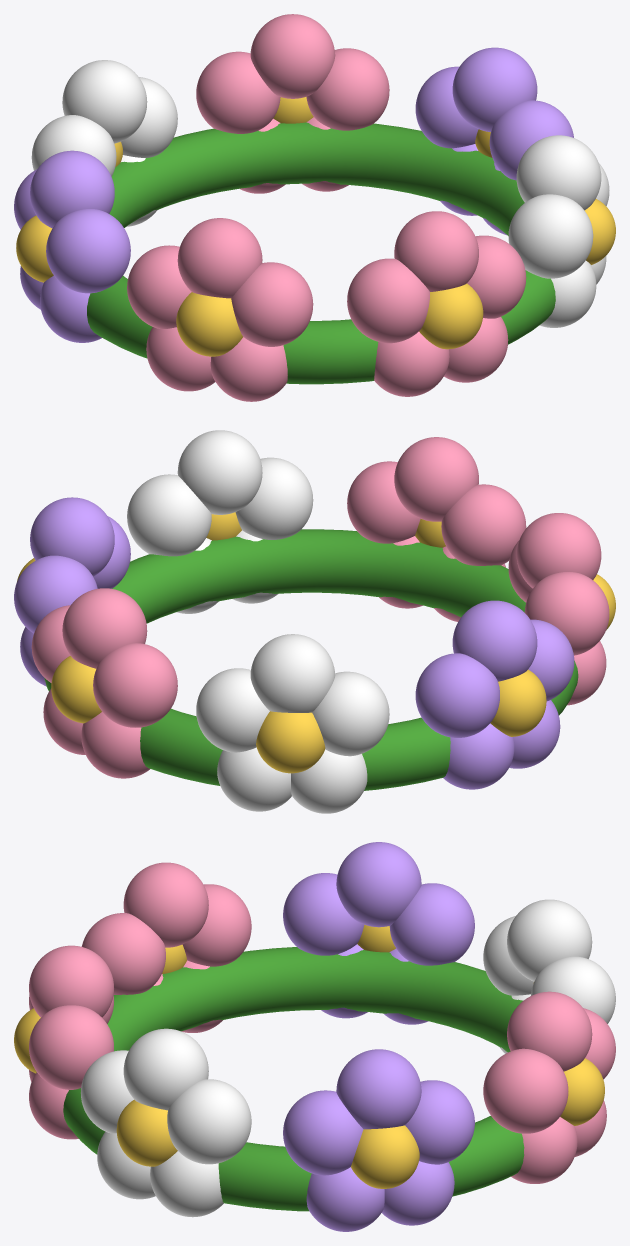
Rendered from Costume_FlowerCrown.fbx.
The picture shows the model from 3 angles, top to bottom: view 1: azimuth 30°, elevation 25°; view 2: azimuth 150°, elevation 25°; view 3: azimuth 270°, elevation 25°; orthographic projection.
Parts seen in each view (by area): view 1: Hamster_JewelLook_CrownPetal (×27), Hamster_JewelLook_CrownRing, Hamster_JewelLook_CrownCenter (×5); view 2: Hamster_JewelLook_CrownPetal (×29), Hamster_JewelLook_CrownRing, Hamster_JewelLook_CrownCenter (×5); view 3: Hamster_JewelLook_CrownPetal (×27), Hamster_JewelLook_CrownRing, Hamster_JewelLook_CrownCenter (×5).
Boxes of the visible parts, x1,y1,x2,y2 form: Hamster_JewelLook_CrownPetal (×27): [14, 14, 601, 401]; Hamster_JewelLook_CrownRing: [87, 122, 555, 384]; Hamster_JewelLook_CrownCenter (×5): [16, 97, 615, 356]; Hamster_JewelLook_CrownPetal (×29): [14, 430, 609, 813]; Hamster_JewelLook_CrownRing: [44, 529, 578, 790]; Hamster_JewelLook_CrownCenter (×5): [51, 512, 546, 773]; Hamster_JewelLook_CrownPetal (×27): [29, 842, 615, 1231]; Hamster_JewelLook_CrownRing: [63, 947, 524, 1211]; Hamster_JewelLook_CrownCenter (×5): [14, 924, 604, 1188].
Bounding box in the file's own units: 14.18 × 4.44 × 14.12.
